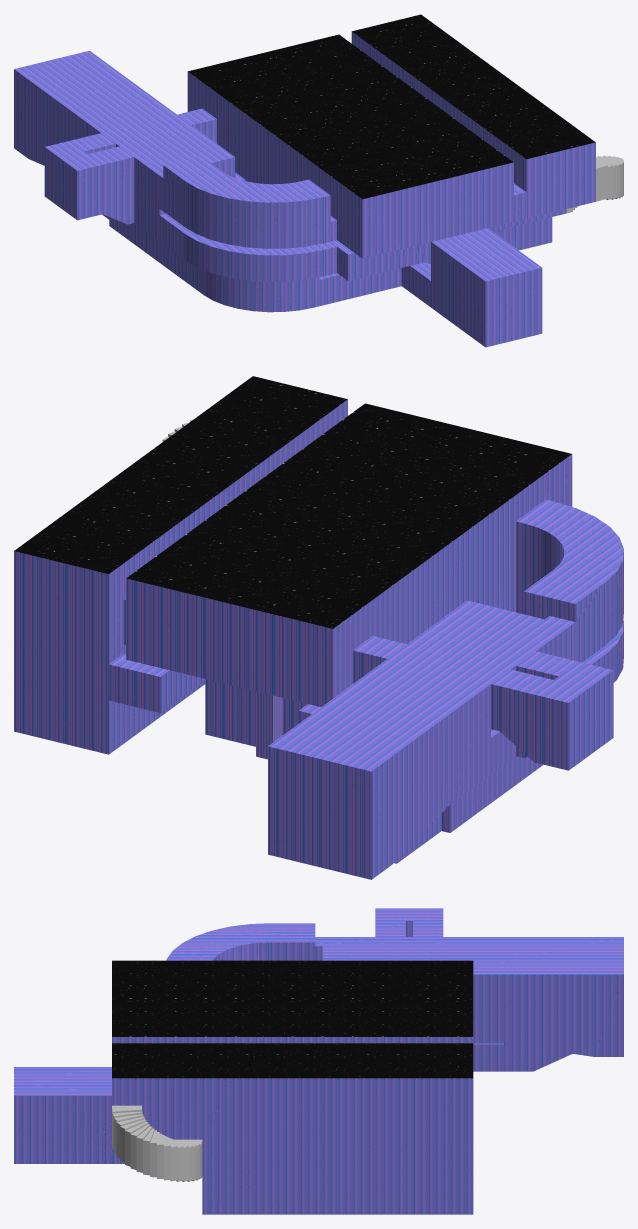
File: Map.fbx
The picture shows the model from 3 angles, top to bottom: view 1: azimuth 30°, elevation 25°; view 2: azimuth 150°, elevation 25°; view 3: azimuth 270°, elevation 25°; orthographic projection. The views are drawn at different scales.
Visible parts, largest first — view 1: Geom, Stairs_4; view 2: Geom; view 3: Geom, Stairs_4.
Boxes of the visible parts, <box> form: Geom: <box>14,14,595,347</box>; Stairs_4: <box>566,155,623,213</box>; Geom: <box>14,376,623,879</box>; Geom: <box>14,908,623,1214</box>; Stairs_4: <box>112,1105,202,1181</box>.
Size of the model in its own units: 6900 by 2000 by 8100.
